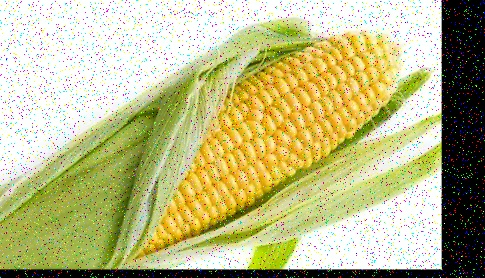corn: (114, 34, 397, 262)
